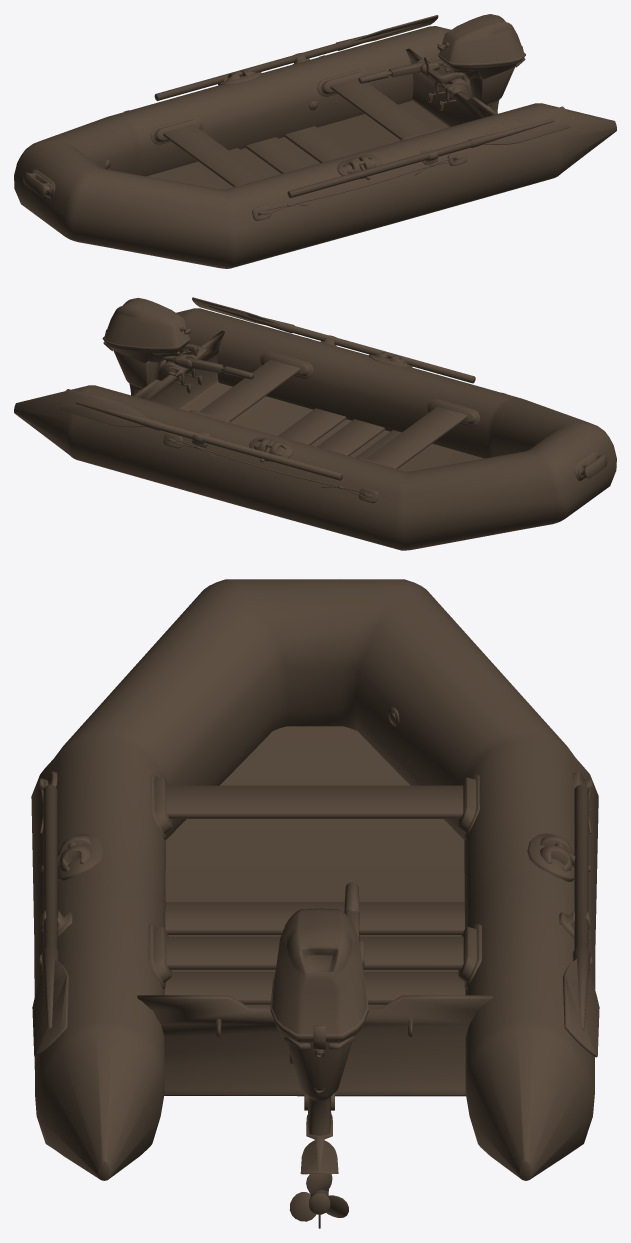
File: Boat.fbx
3 views of the same model, one above another, from view 1: azimuth 30°, elevation 25°; view 2: azimuth 150°, elevation 25°; view 3: azimuth 270°, elevation 25° (orthographic). The views are drawn at different scales.
Parts seen in each view (by area): view 1: Boat, Engine; view 2: Boat, Engine; view 3: Boat, Engine, Blade.
Part boxes in pixels (<box>): Boat: <box>14,15,616,268</box>; Engine: <box>358,14,525,112</box>; Boat: <box>14,297,616,550</box>; Engine: <box>102,298,253,395</box>; Boat: <box>31,579,599,1180</box>; Engine: <box>270,882,368,1228</box>; Blade: <box>289,1174,348,1221</box>.
Size of the model in its own units: 286 by 75.8 by 133.
